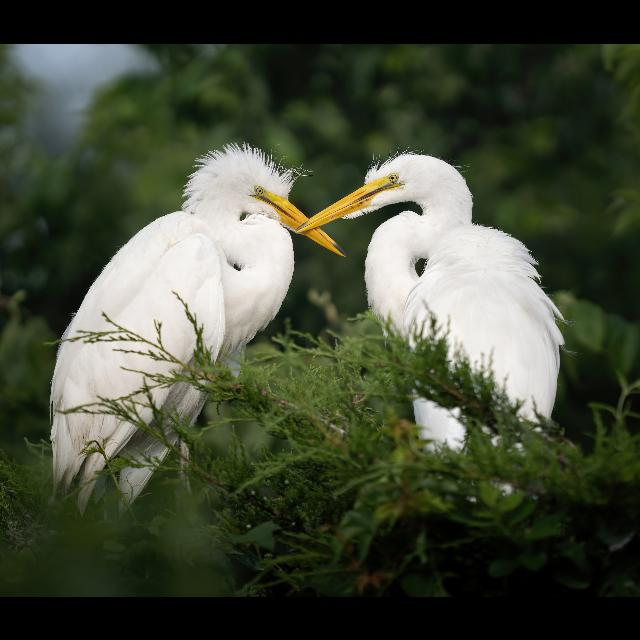egret: (46, 141, 350, 515), (300, 148, 572, 492)
